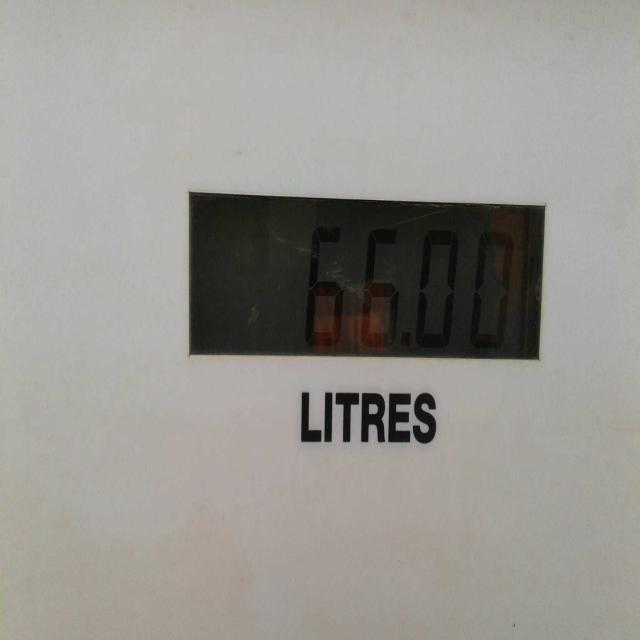.: (398, 331, 414, 354)
0: (469, 215, 530, 358), (416, 220, 463, 342)
6: (358, 209, 414, 362), (304, 225, 353, 352)
